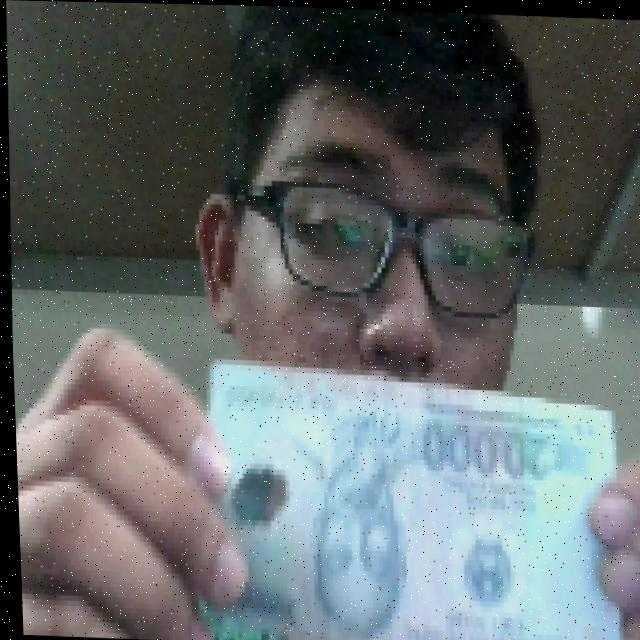20 000 VND: (182, 352, 628, 640)
